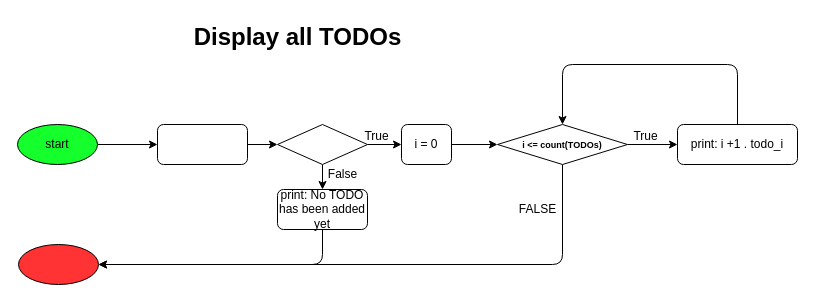
Some shapes in this 815 by 302 pixel diagram are drawn without their labels. Here are the shapes that lost their labels. From the top down, the centre of each, then its label:
At [202,144]: "Get TODOs".
At [322,144]: "TODOs Empty ?".
At [58,264]: "End".
